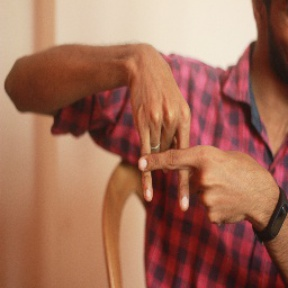H: (126, 110, 228, 214)
